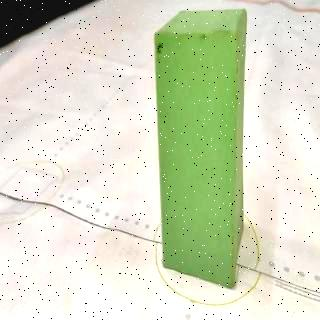greenbox: (155, 8, 242, 288)
